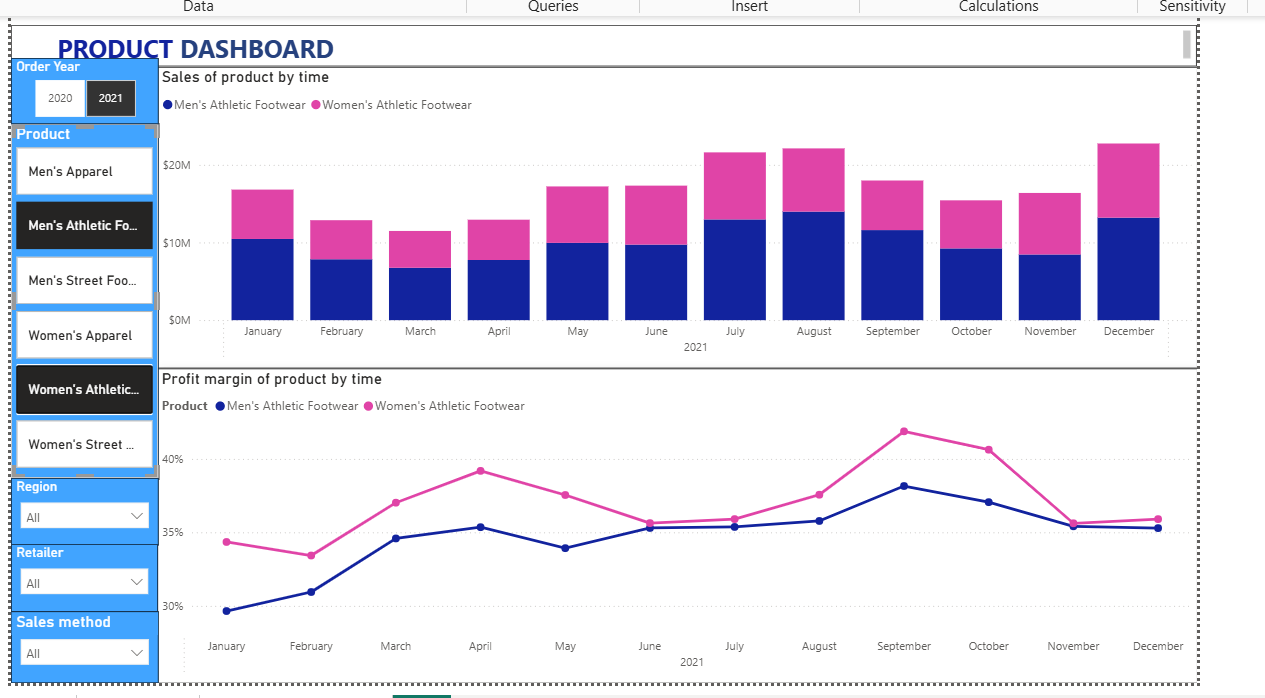

The page's visual inventory and layout, read from the dashboard file:
{"tool":"powerbi","page":{"name":"Produc(By time)","canvas":[1280,720],"ordinal":2},"visuals":[{"type":"columnChart","title":"Sales of product by time","fields":{"Category":["DimDate.Year","DimDate.InvoiceDate.Variation.Date Hierarchy.Month"],"Y":["All measure.Total Revenue"],"Series":["DimProduct.Product"]},"box":[156.5,55,1123.8,325.3],"z":1000},{"type":"textbox","box":[0,10.2,1279.8,44.8],"z":3000},{"type":"lineChart","title":"Profit margin of product by time","fields":{"Y":["All measure.Profit Margin %"],"Series":["DimProduct.Product"],"Category":["DimDate.Year","DimDate.InvoiceDate.Variation.Date Hierarchy.Month"]},"box":[156.5,380.3,1123.8,339.9],"z":4000},{"type":"advancedSlicerVisual","title":"Product","fields":{"Values":["DimProduct.Product"]},"box":[0,115.8,159.3,382.4],"z":4001},{"type":"slicer","title":"Order Year","fields":{"Values":["DimDate.Year"]},"box":[0,44.5,159.1,71.6],"z":4002},{"type":"slicer","title":"Sales method","fields":{"Values":["DimSalesMethod.SalesMethod"]},"box":[0,642.8,159.3,77.2],"z":4003},{"type":"slicer","title":"Region","fields":{"Values":["DimGeography.Region"]},"box":[0,498.3,159.3,72.4],"z":4004},{"type":"slicer","title":"Retailer","fields":{"Values":["DimRetailer.Retailer"]},"box":[0,569.8,159,73.4],"z":4005}]}

Visuals, with their boxes on the page's 1280x720 design canvas (x1, y1, x2, y2). These are canvas units, not pixel positions in the 1265x698 screenshot, which may show the page scaled, cropped or inside an application window:
"Sales of product by time" columnChart: box=[156, 55, 1280, 380]
textbox: box=[0, 10, 1280, 55]
"Profit margin of product by time" lineChart: box=[156, 380, 1280, 720]
"Product" advancedSlicerVisual: box=[0, 116, 159, 498]
"Order Year" slicer: box=[0, 44, 159, 116]
"Sales method" slicer: box=[0, 643, 159, 720]
"Region" slicer: box=[0, 498, 159, 571]
"Retailer" slicer: box=[0, 570, 159, 643]
